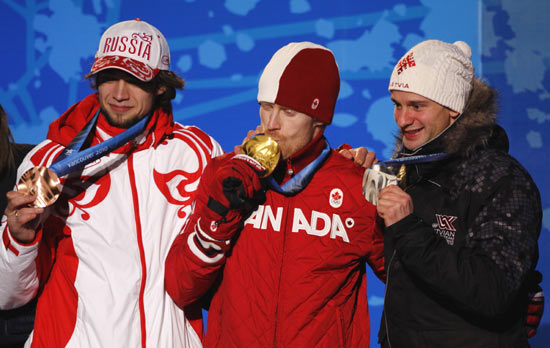face: (95, 62, 157, 122), (260, 96, 316, 157), (395, 84, 443, 149)
